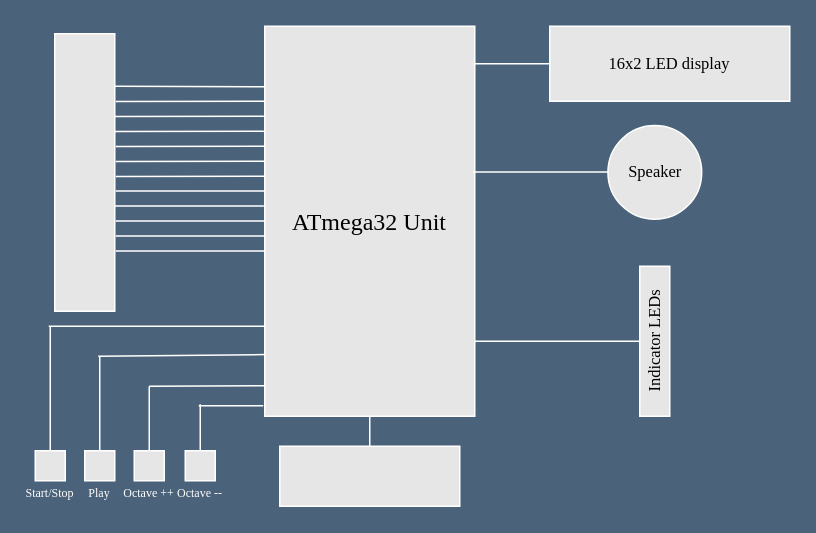
This 816x533 diagram has some shape labels left out. Each missing label, with the centre of its shape:
"12x IR sensors" goes at (84,171).
"Memory Device" goes at (369,475).
